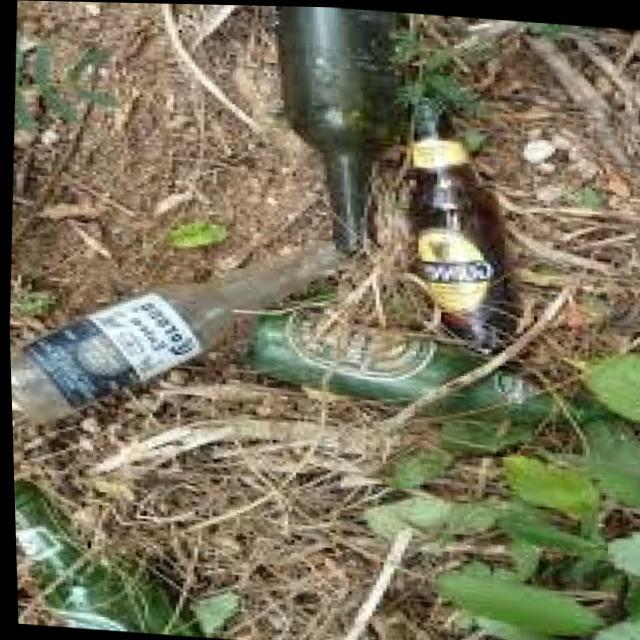foam box: (5, 220, 345, 446), (372, 91, 600, 338), (218, 312, 590, 438), (254, 5, 411, 262), (11, 475, 223, 638), (159, 206, 178, 233)
